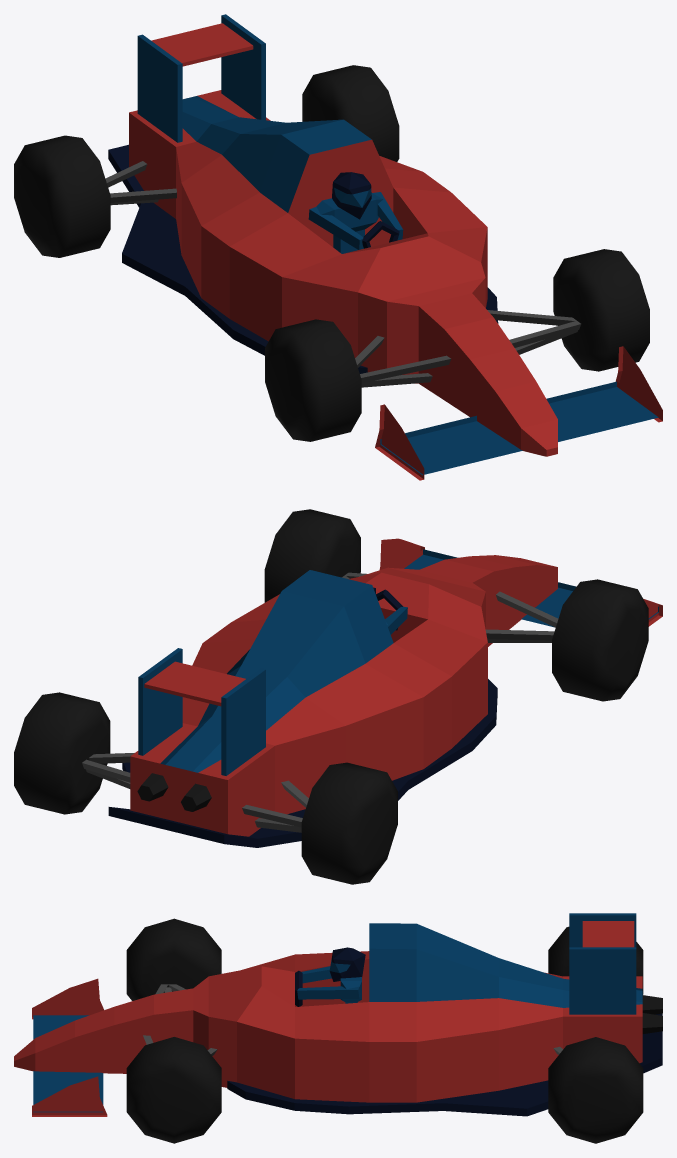
The picture shows the model from 3 angles, top to bottom: view 1: azimuth 30°, elevation 25°; view 2: azimuth 150°, elevation 25°; view 3: azimuth 270°, elevation 25°; orthographic projection. The views are drawn at different scales.
Parts seen in each view (by area): view 1: body, wheel_fr, wheel_rr, wheel_fl, wheel_rl; view 2: body, wheel_rr, wheel_fr, wheel_rl, wheel_fl; view 3: body, wheel_fl, wheel_rl, wheel_fr, wheel_rr.
Part boxes in pixels (x1,y1,x2,y2): body: [105, 14, 662, 480]; wheel_fr: [265, 319, 361, 441]; wheel_rr: [14, 135, 110, 257]; wheel_fl: [553, 249, 649, 371]; wheel_rl: [302, 65, 399, 161]; body: [82, 538, 662, 847]; wheel_rr: [301, 762, 397, 884]; wheel_fr: [552, 579, 648, 701]; wheel_rl: [14, 692, 110, 814]; wheel_fl: [264, 509, 360, 602]; body: [14, 913, 662, 1116]; wheel_fl: [126, 1037, 221, 1143]; wheel_rl: [548, 1037, 643, 1143]; wheel_fr: [126, 918, 221, 1000]; wheel_rr: [548, 926, 643, 994].
Size of the model in its own units: 2.37 by 1.13 by 4.6.
